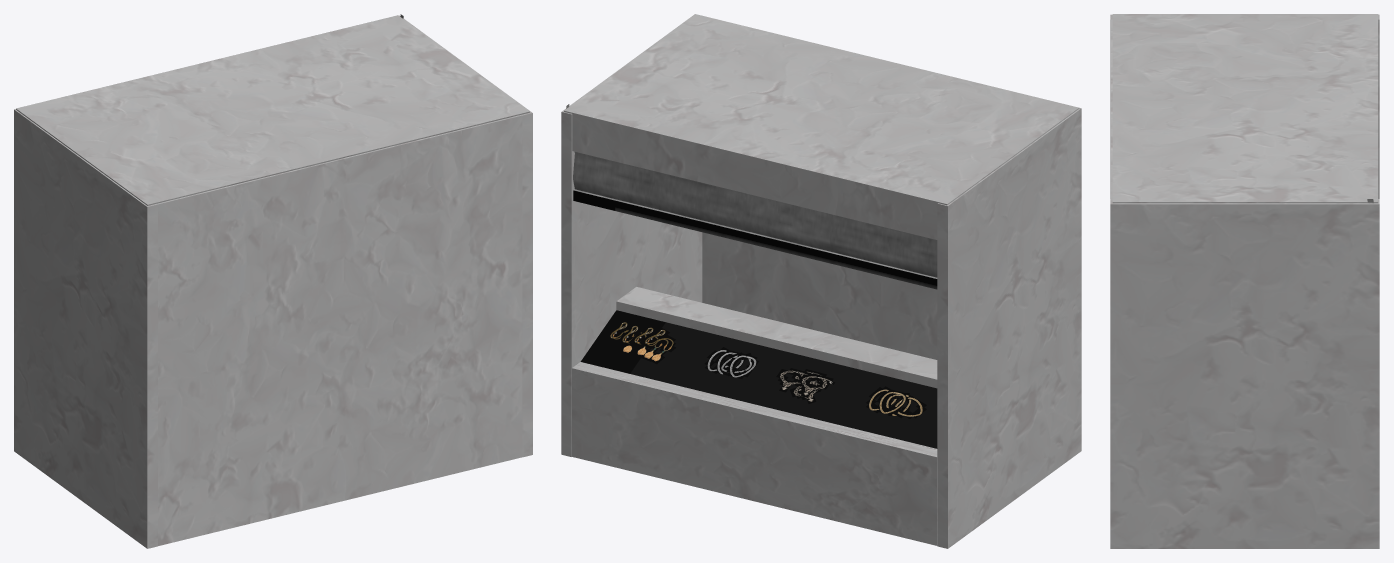
File: shop7.fbx
3 views of the same model, side by side, from view 1: azimuth 30°, elevation 25°; view 2: azimuth 150°, elevation 25°; view 3: azimuth 270°, elevation 25° (orthographic).
Parts seen in each view (by area): view 1: pCube192; view 2: pCube192; view 3: pCube192.
Part boxes in pixels (x1,y1,x2,y2): pCube192: (14, 14, 532, 548); pCube192: (561, 14, 1081, 548); pCube192: (1110, 14, 1379, 548).
Size of the model in its own units: 4.82 by 4.14 by 2.89.
5 materials, 5 textured.
